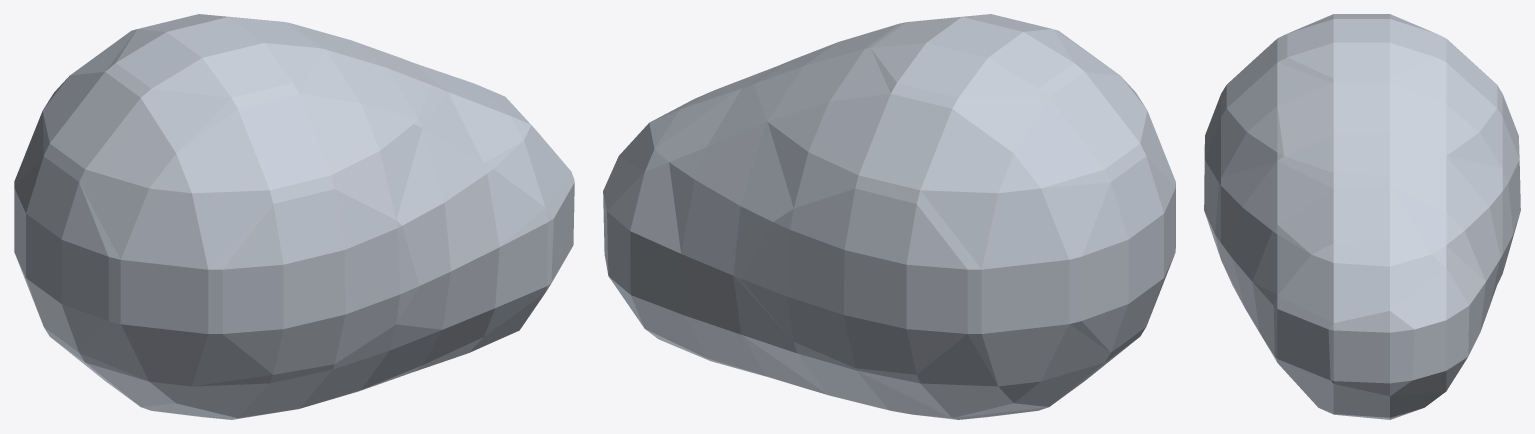
Rendered from rock-type-B.fbx.
3 views of the same model, side by side, from view 1: azimuth 30°, elevation 25°; view 2: azimuth 150°, elevation 25°; view 3: azimuth 270°, elevation 25° (orthographic). The views are drawn at different scales.
Visible parts, largest first — view 1: 3.1 rock-type-B; view 2: 3.1 rock-type-B; view 3: 3.1 rock-type-B.
Boxes of the visible parts, box(x1,y1,x2,y2) form: 3.1 rock-type-B: box(14, 14, 574, 419); 3.1 rock-type-B: box(603, 14, 1175, 419); 3.1 rock-type-B: box(1204, 14, 1520, 419).
Bounding box in the file's own units: 1.74 × 1.18 × 1.16.
